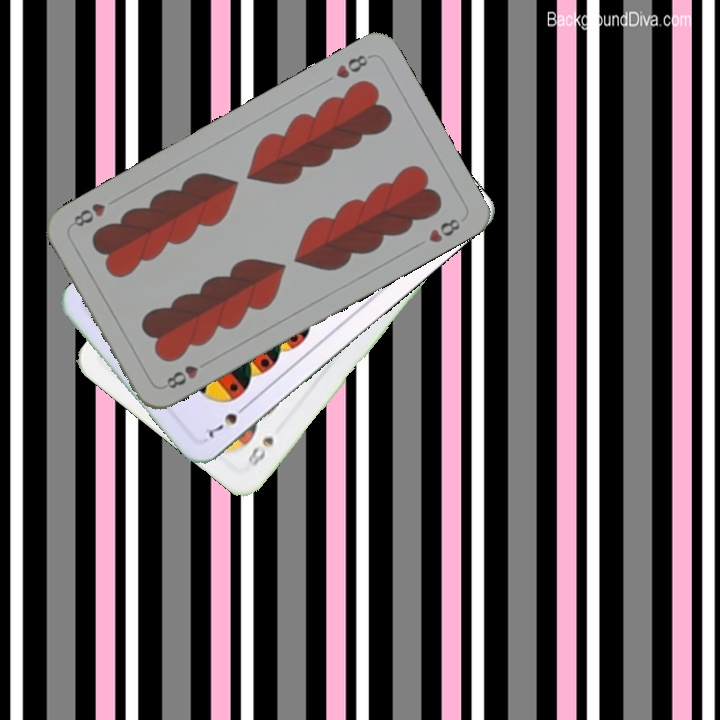H8: (331, 50, 375, 82), (162, 361, 201, 392)
S7: (201, 400, 251, 440)
S8: (243, 432, 277, 470)
